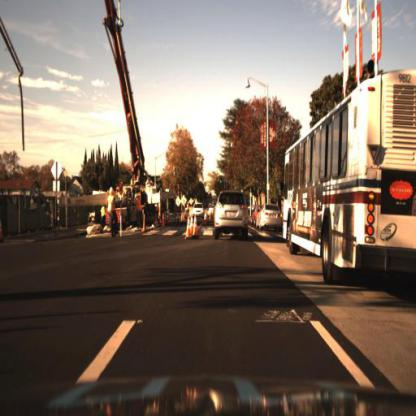car: (215, 187, 251, 241), (256, 199, 286, 235), (259, 198, 284, 236), (252, 201, 264, 230), (191, 202, 207, 222)
pedestrian: (106, 186, 119, 243), (107, 186, 121, 235), (134, 189, 144, 237), (133, 190, 144, 230)
trafficLight: (217, 169, 225, 188)
truck: (8, 2, 164, 231), (280, 62, 416, 278), (99, 184, 155, 241)
